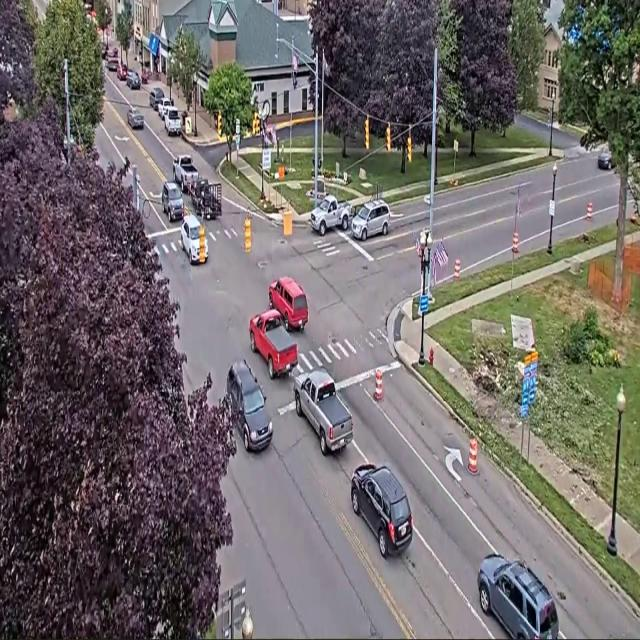car: (478, 553, 559, 639), (351, 464, 413, 557), (227, 360, 272, 451), (269, 277, 308, 330), (351, 200, 390, 240), (181, 215, 203, 263), (162, 182, 184, 221), (127, 107, 144, 129), (157, 97, 173, 119), (149, 88, 164, 111), (598, 151, 613, 170), (126, 71, 141, 89), (117, 64, 128, 81), (107, 57, 119, 71), (102, 44, 109, 60)
traffic signal: (244, 216, 251, 252), (199, 225, 205, 263), (252, 112, 259, 135), (407, 135, 412, 162), (386, 125, 391, 151), (365, 117, 369, 149), (217, 112, 222, 136)
truck: (294, 369, 353, 455), (249, 310, 297, 379), (310, 195, 351, 236), (190, 177, 221, 219), (173, 155, 199, 191), (164, 107, 181, 135)
